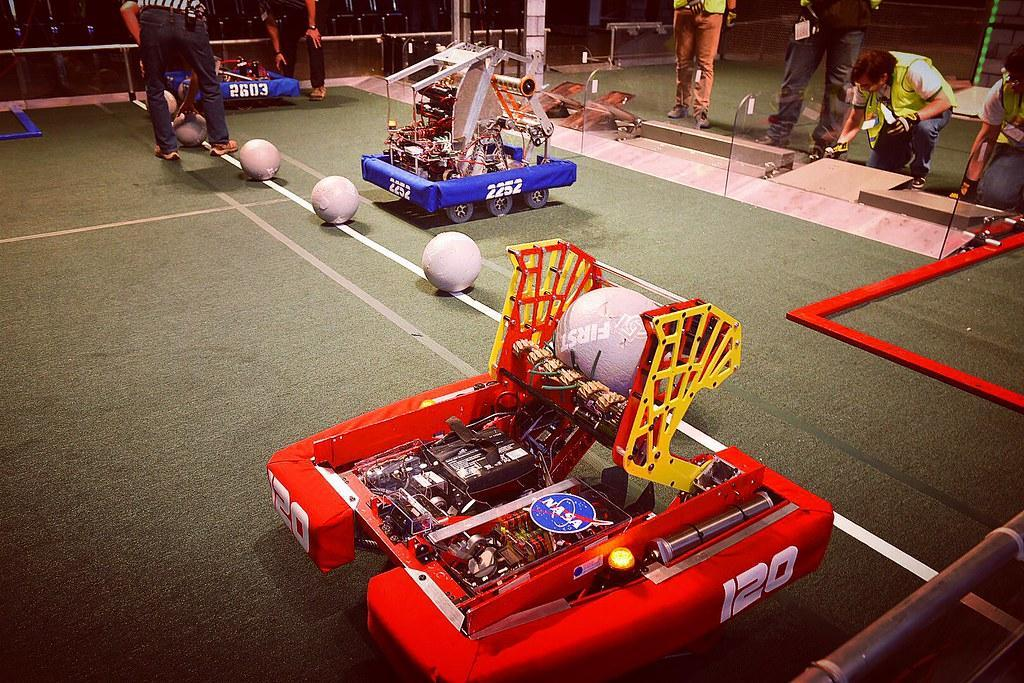robot: (257, 233, 844, 683), (359, 34, 580, 222), (150, 0, 303, 113)
